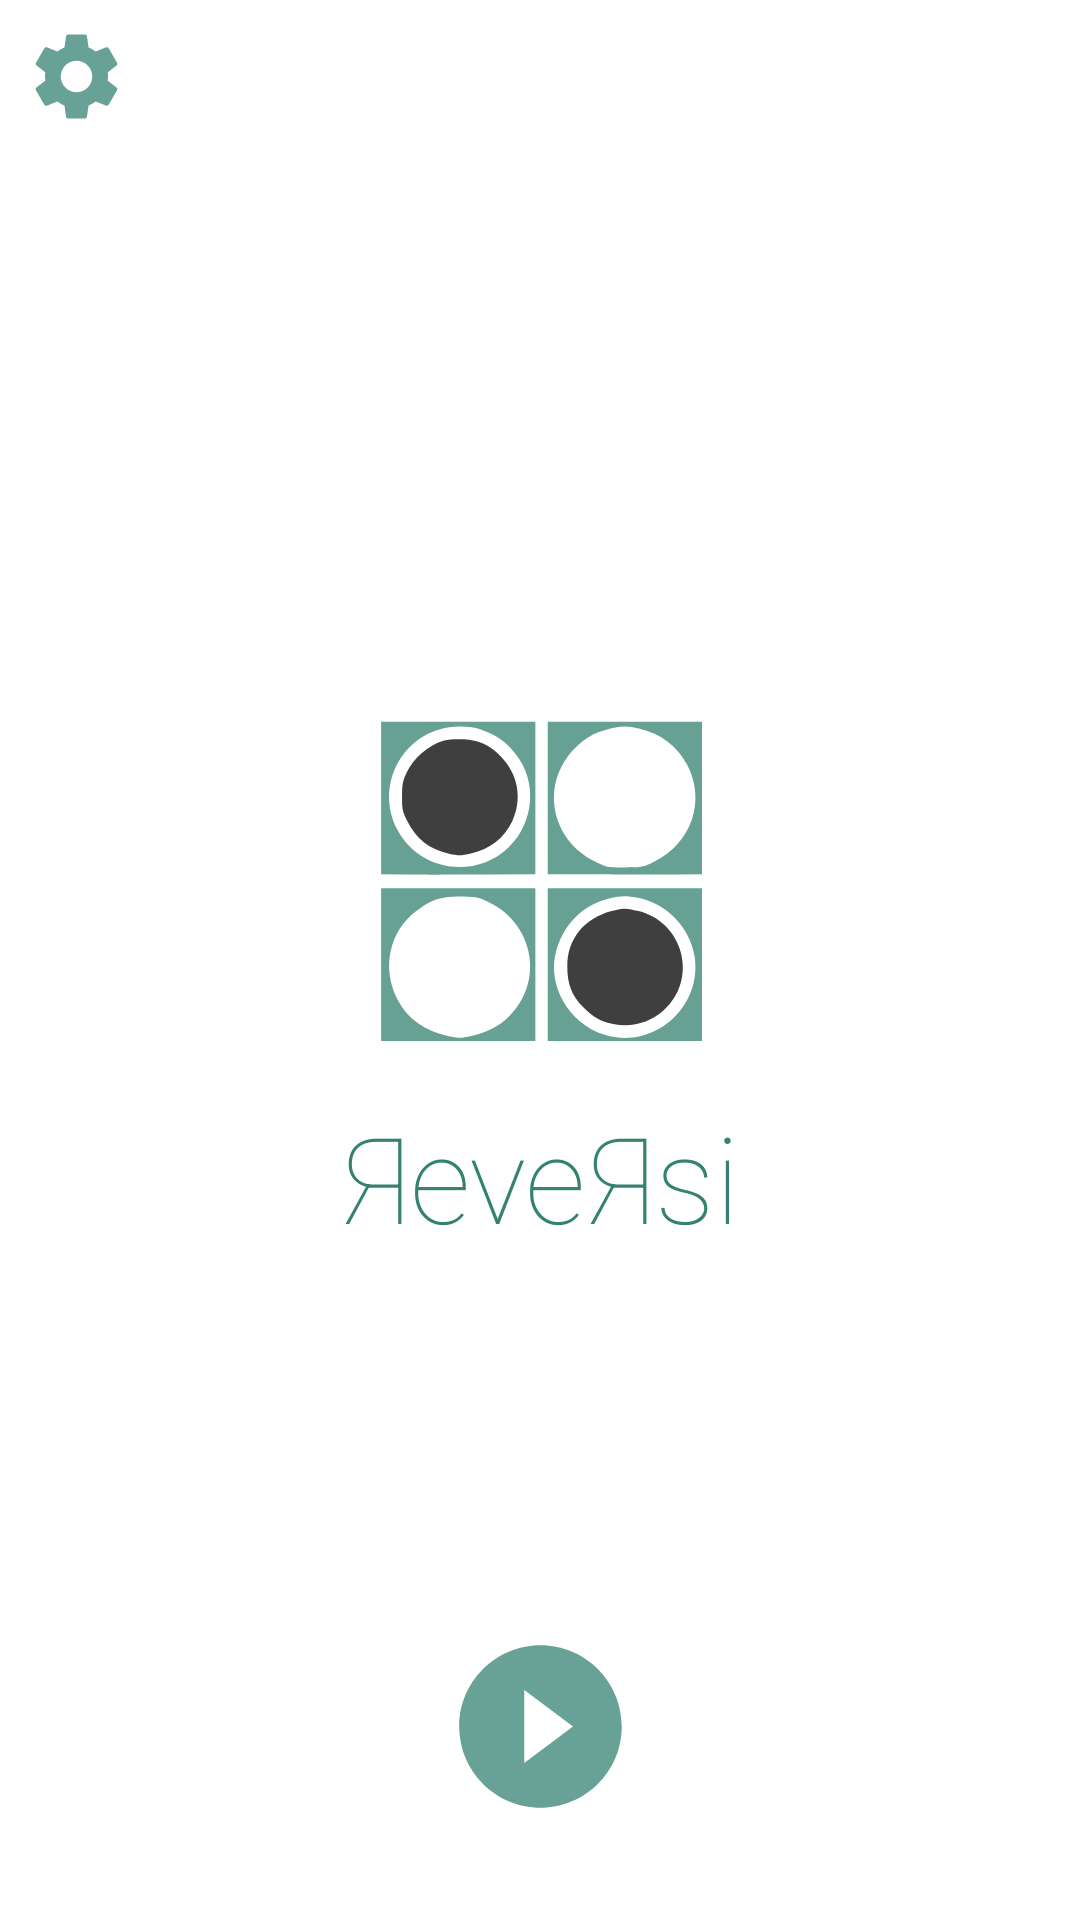

Named icons in this screenshot (1080*1920) and their bounding boxes, rect(x1, y1, x2, y2):
play circle: rect(459, 1645, 622, 1808)
settings: rect(35, 34, 118, 119)
